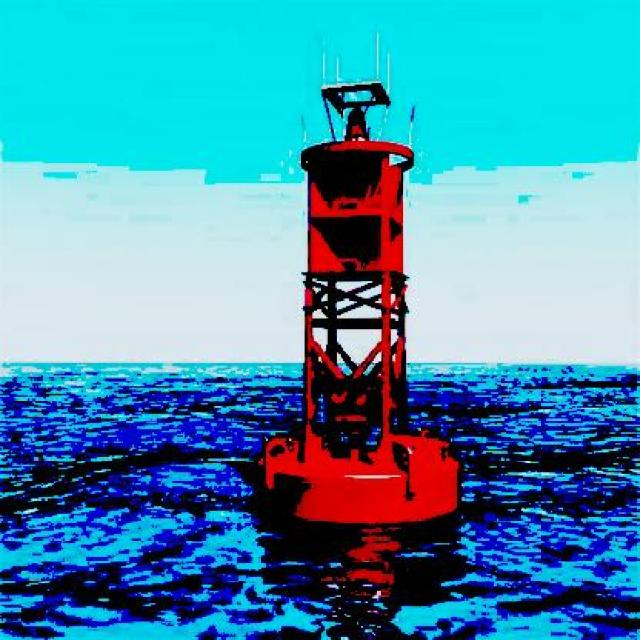Red Buoy: (259, 143, 455, 517)
